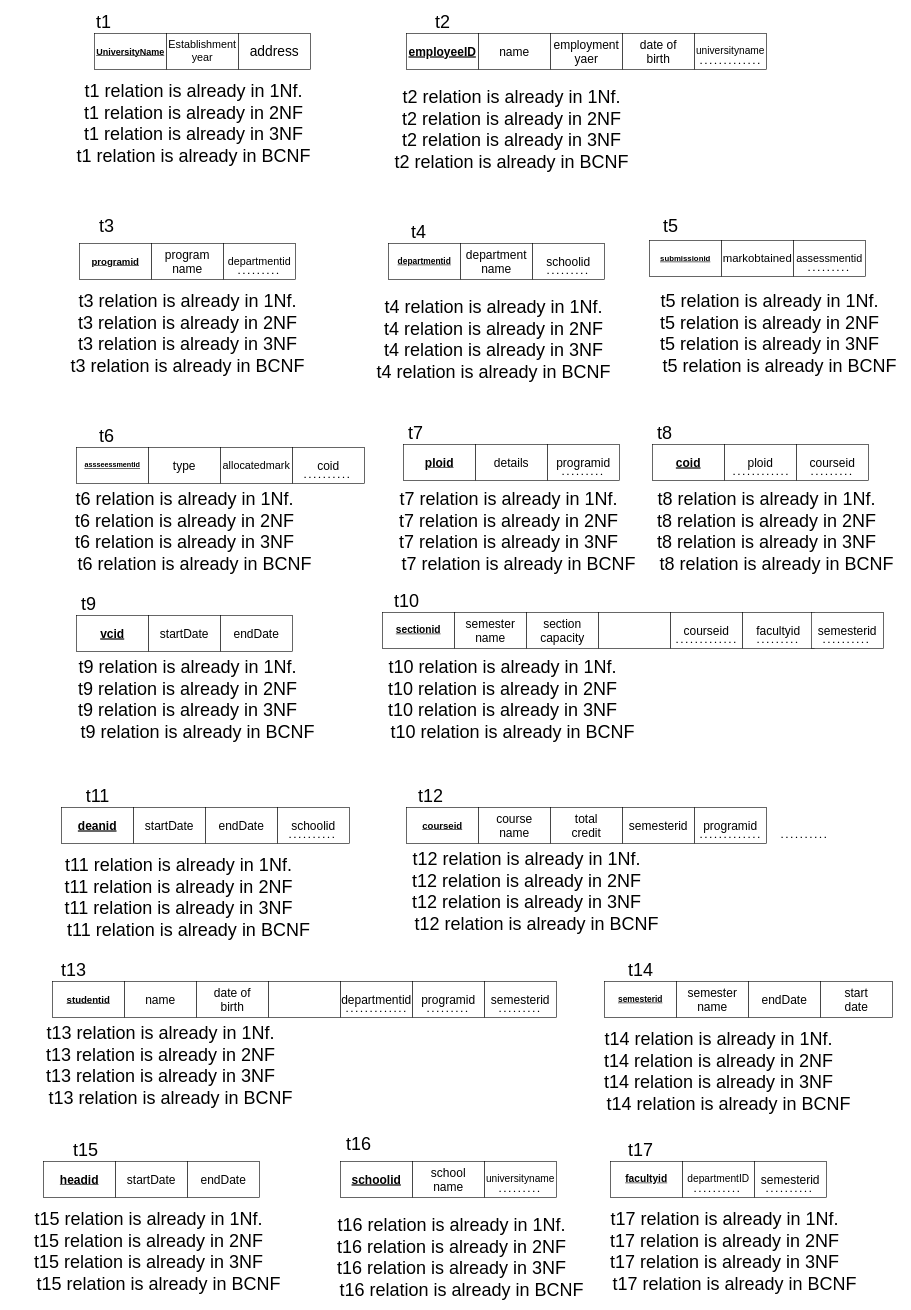
Some shapes in this 911 by 1310 pixel diagram are drawn without their labels. The box of each missing label's shape, as (x1, y1, x2, y2) in pixels:
enrollment date: (268, 981, 340, 1017)
section number: (598, 612, 670, 648)
